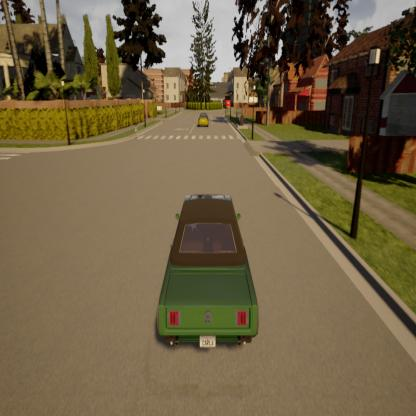Cars: (148, 187, 265, 362), (195, 109, 212, 131), (133, 125, 140, 139)
